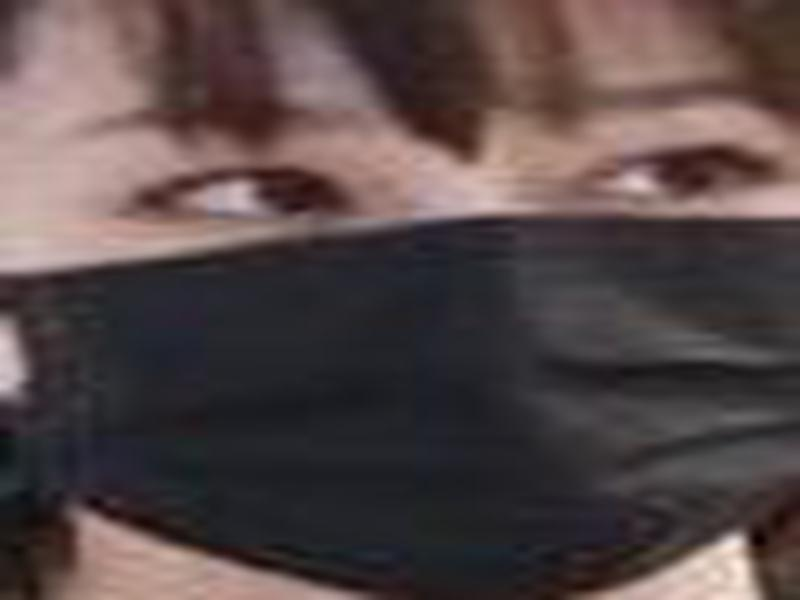with_mask: (1, 4, 798, 600)
